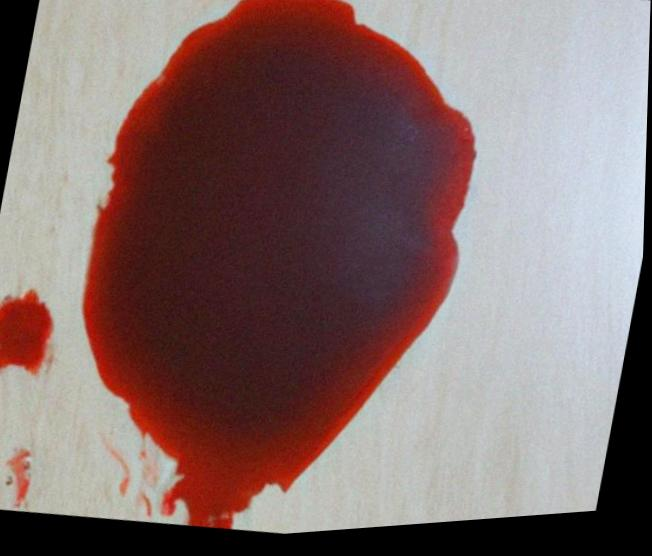Fire: (83, 0, 478, 533), (0, 288, 57, 376), (7, 449, 34, 508)
